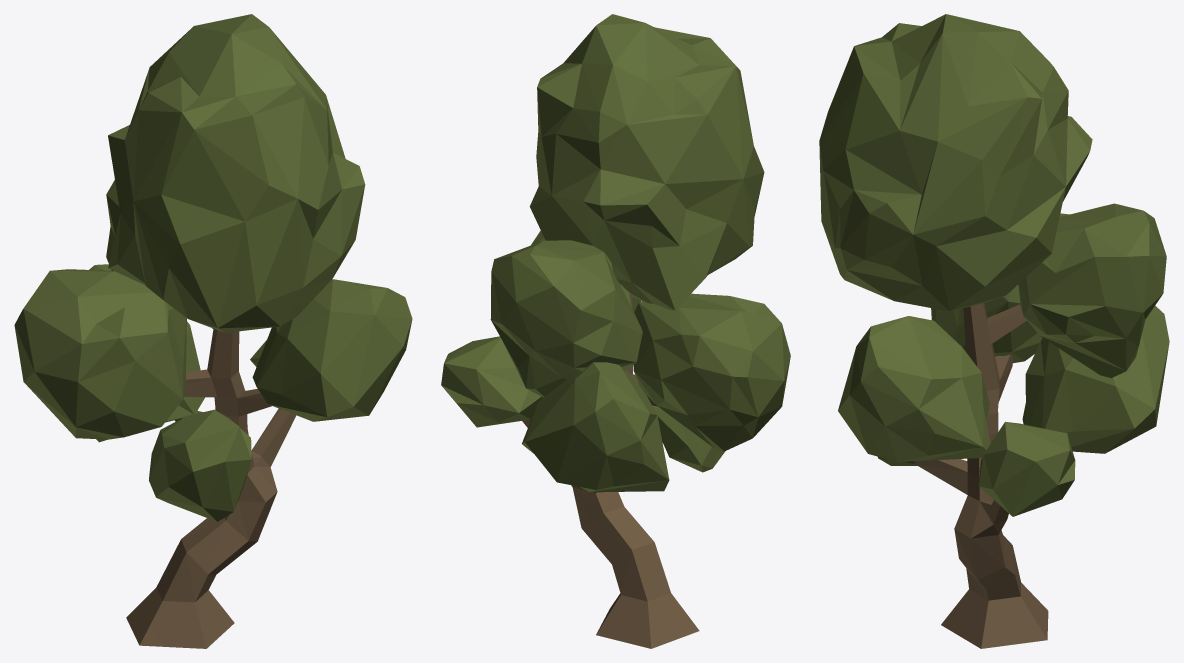
The model's file is SM_Env_Tree_Twisted_02.gltf.
3 views of the same model, side by side, from view 1: azimuth 30°, elevation 25°; view 2: azimuth 150°, elevation 25°; view 3: azimuth 270°, elevation 25° (orthographic). The views are drawn at different scales.
Visible parts, largest first — view 1: SM_Env_Tree_Twisted_02; view 2: SM_Env_Tree_Twisted_02; view 3: SM_Env_Tree_Twisted_02.
Part boxes in pixels (left/top/right/bottom): SM_Env_Tree_Twisted_02: left=14, top=14, right=412, bottom=648; SM_Env_Tree_Twisted_02: left=441, top=14, right=790, bottom=648; SM_Env_Tree_Twisted_02: left=819, top=14, right=1169, bottom=648.
Size of the model in its own units: 3.47 by 6.01 by 3.05.
Materials: 1 (1 with a texture image).
